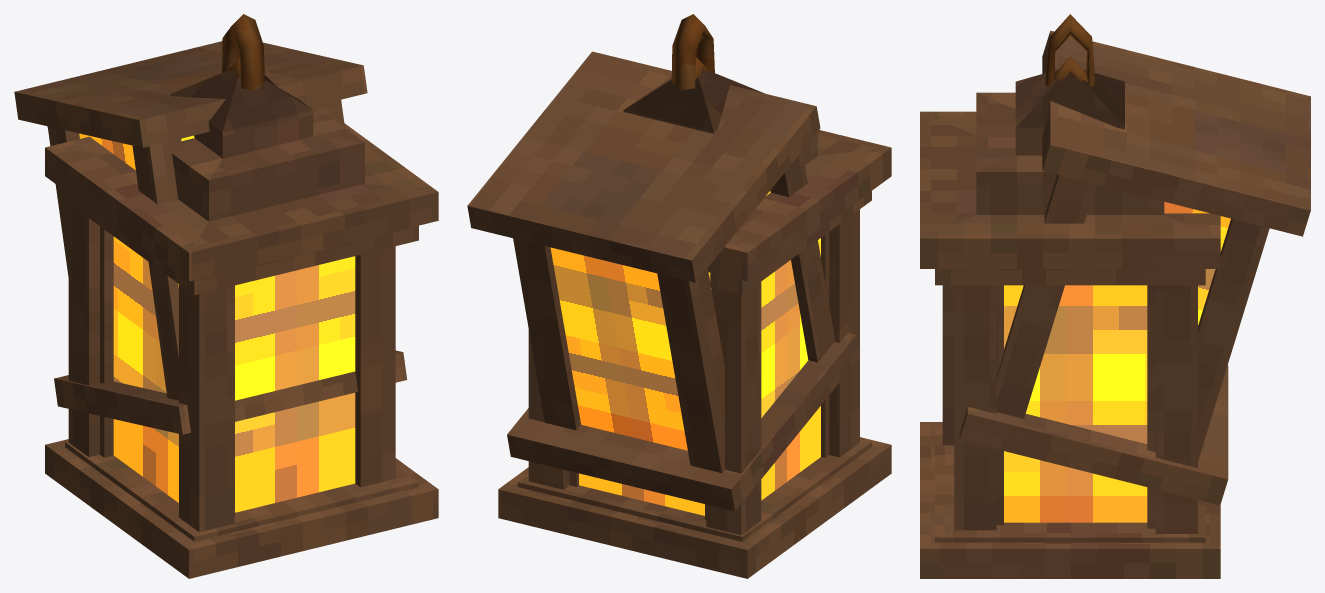
File: Lantern.fbx
The picture shows the model from 3 angles, left to right: view 1: azimuth 30°, elevation 25°; view 2: azimuth 150°, elevation 25°; view 3: azimuth 270°, elevation 25°; orthographic projection. The views are drawn at different scales.
Visible parts, largest first — view 1: Lantern, attach_back, equiped; view 2: attach_back, Lantern, equiped; view 3: Lantern, attach_back, equiped.
Boxes of the visible parts, x1=… form: Lantern: x1=45, y1=14, x2=438, y2=578; attach_back: x1=14, y1=41, x2=407, y2=434; equiped: x1=65, y1=58, x2=418, y2=541; attach_back: x1=467, y1=51, x2=859, y2=511; Lantern: x1=498, y1=14, x2=891, y2=578; equiped: x1=517, y1=57, x2=871, y2=541; Lantern: x1=920, y1=14, x2=1220, y2=578; attach_back: x1=959, y1=30, x2=1310, y2=505; equiped: x1=935, y1=56, x2=1205, y2=542.
Size of the model in its own units: 35.9 by 71.57 by 46.68.
Materials: 2 (2 with a texture image).
